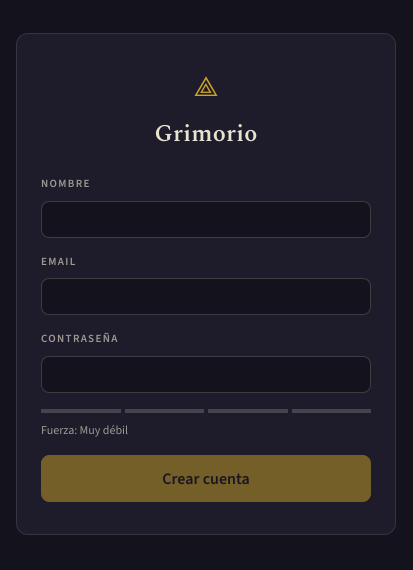
Test case: RegistroScreen › shows the email-taken message on a 409 ApiError
The width and height of the screenshot is (413, 570).
Type "Lyra" into the field labelled "Nombre" at {"x": 206, "y": 219}, box [41,201,371,238]
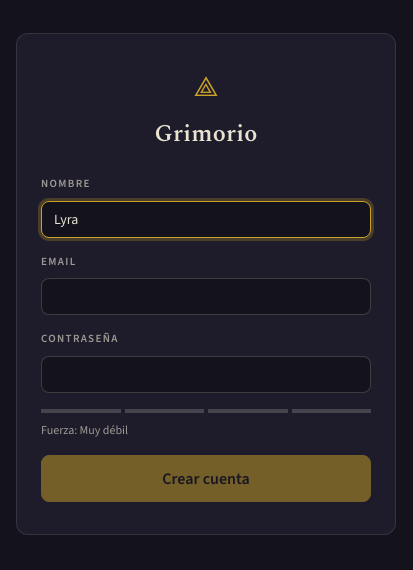
Type "lyra@example.com" into the field labelled "Email" at {"x": 206, "y": 297}, box [41,278,371,315]
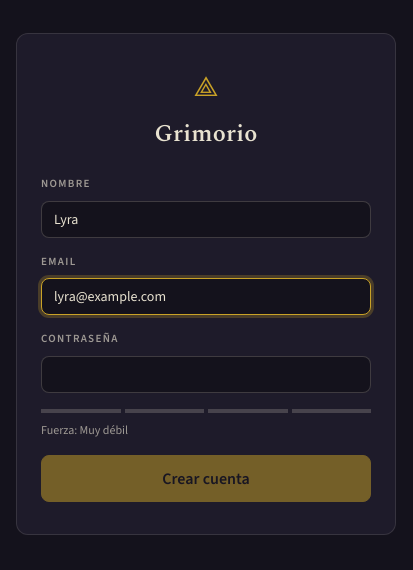
Type "Abcdef12!" into the password field labelled "Contraseña" at {"x": 206, "y": 374}, box [41,356,371,393]
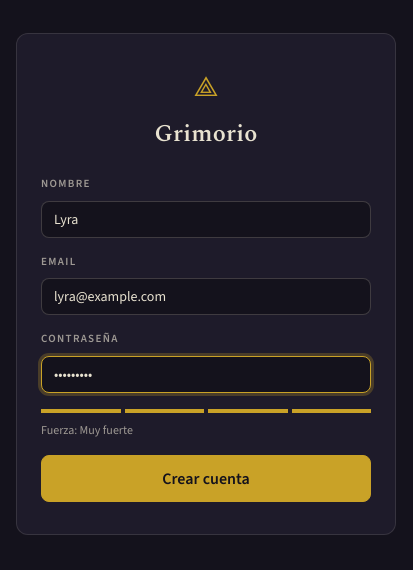
Click the button "Crear cuenta" at {"x": 206, "y": 478}, box [41,455,371,502]
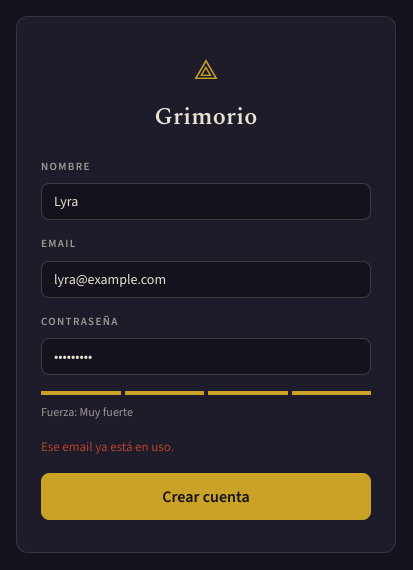
Expected: the text "Ese email ya está en uso." is shown, [41,438,174,455]
